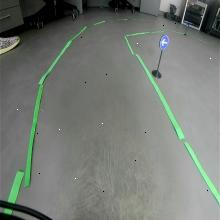left: (159, 33, 169, 51)
